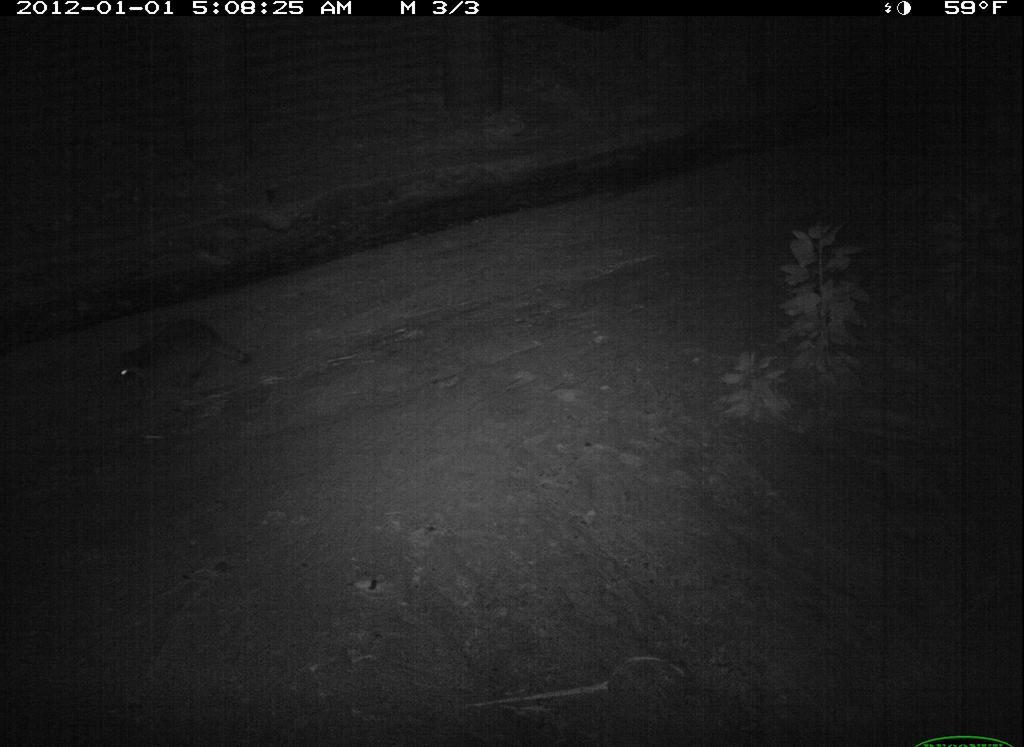raccoon: (104, 310, 260, 411)
